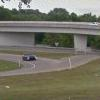Bridge: (2, 10, 97, 48)
